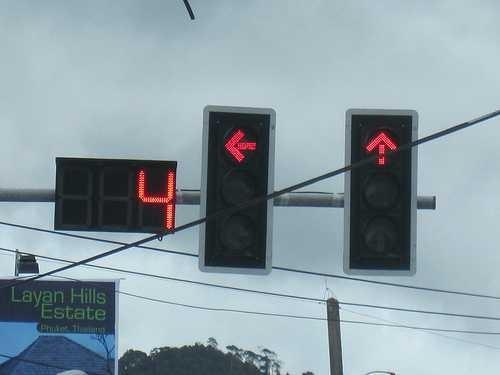red: (207, 109, 266, 269), (353, 114, 410, 270), (216, 122, 262, 168), (360, 126, 403, 171)
